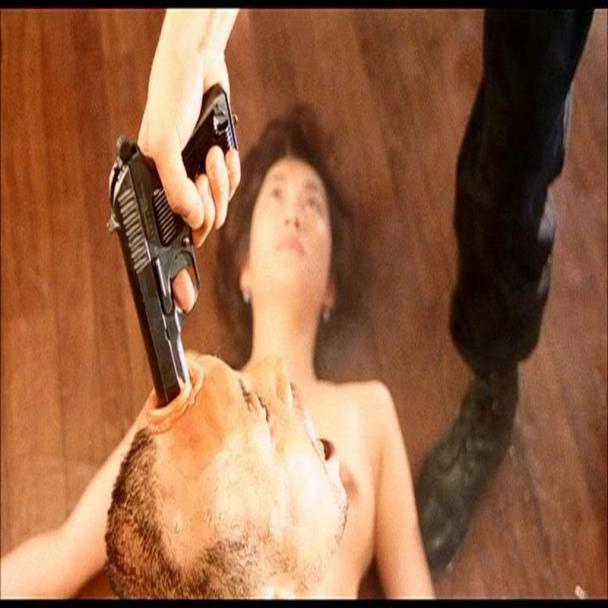Gun: (104, 88, 237, 408)
